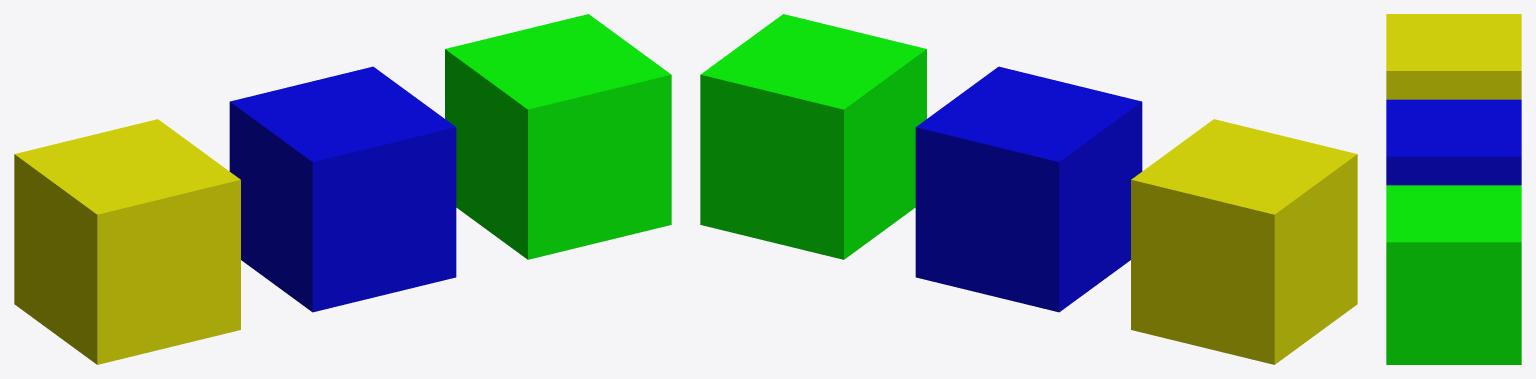
Rendered from color_cubes.fbx.
3 renders of one model, left to right at view 1: azimuth 30°, elevation 25°; view 2: azimuth 150°, elevation 25°; view 3: azimuth 270°, elevation 25°, orthographic. The views are drawn at different scales.
Parts seen in each view (by area): view 1: pCube1, pCube3, pCube2; view 2: pCube1, pCube3, pCube2; view 3: pCube2, pCube3, pCube1.
Boxes of the visible parts, x1,y1,x2,y2 form: pCube1: (14, 119, 240, 364); pCube3: (229, 66, 456, 312); pCube2: (445, 14, 671, 259); pCube1: (1131, 119, 1357, 364); pCube3: (915, 66, 1142, 312); pCube2: (700, 14, 926, 259); pCube2: (1386, 185, 1521, 364); pCube3: (1386, 99, 1521, 185); pCube1: (1386, 14, 1521, 99).
Size of the model in its own units: 4 by 1 by 1.
